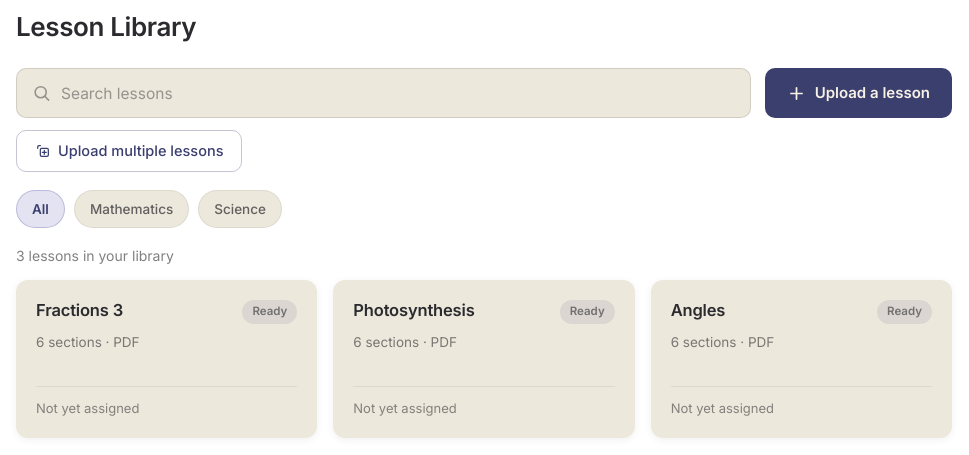
Test case: when nothing matches › names the search in C06's own words
Type "volcanoes" into the field labelled "Search lessons" at (383, 93), box [16, 68, 751, 118]
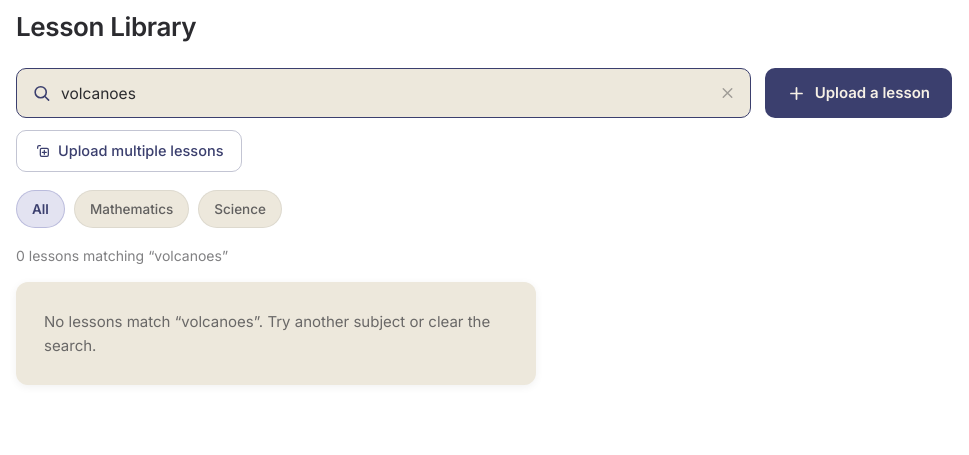
Now the text "No lessons match “volcanoes”. Try another subject or clear the search." is shown, box [16, 282, 536, 385]
